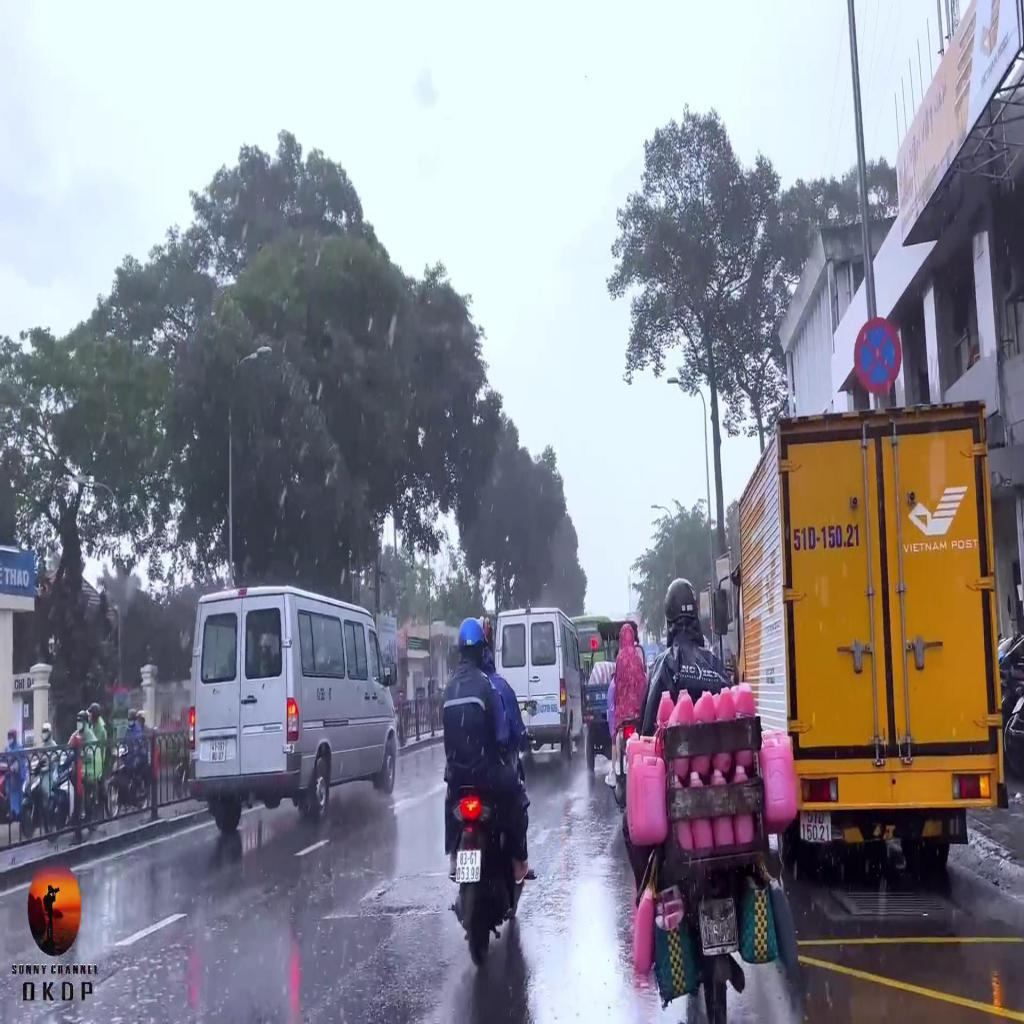cam_dung_xe_va_do_xe: (853, 315, 902, 399)
